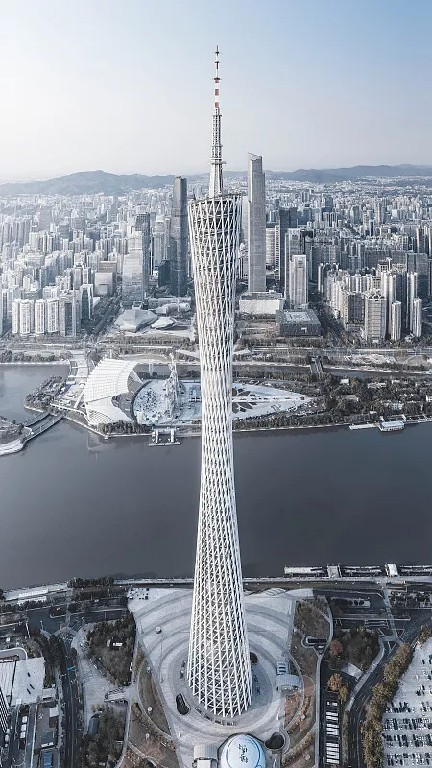Canton: (185, 46, 256, 717)
